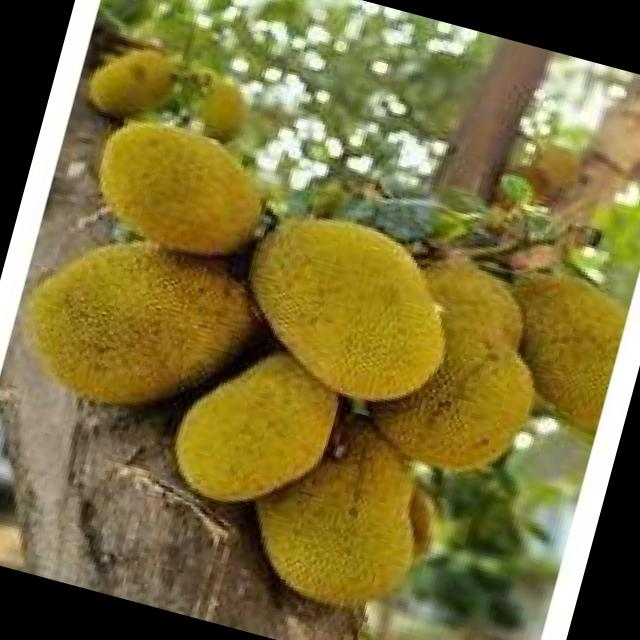Fruit: (205, 170, 493, 442), (125, 292, 392, 579), (0, 205, 288, 455), (208, 383, 470, 640), (70, 92, 294, 282)
